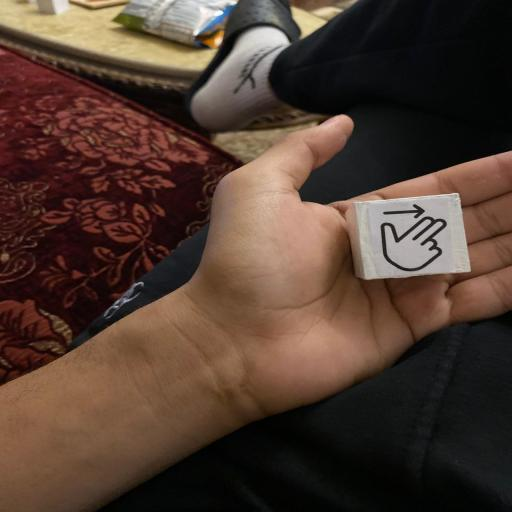RightSwipe: (348, 192, 469, 281)
